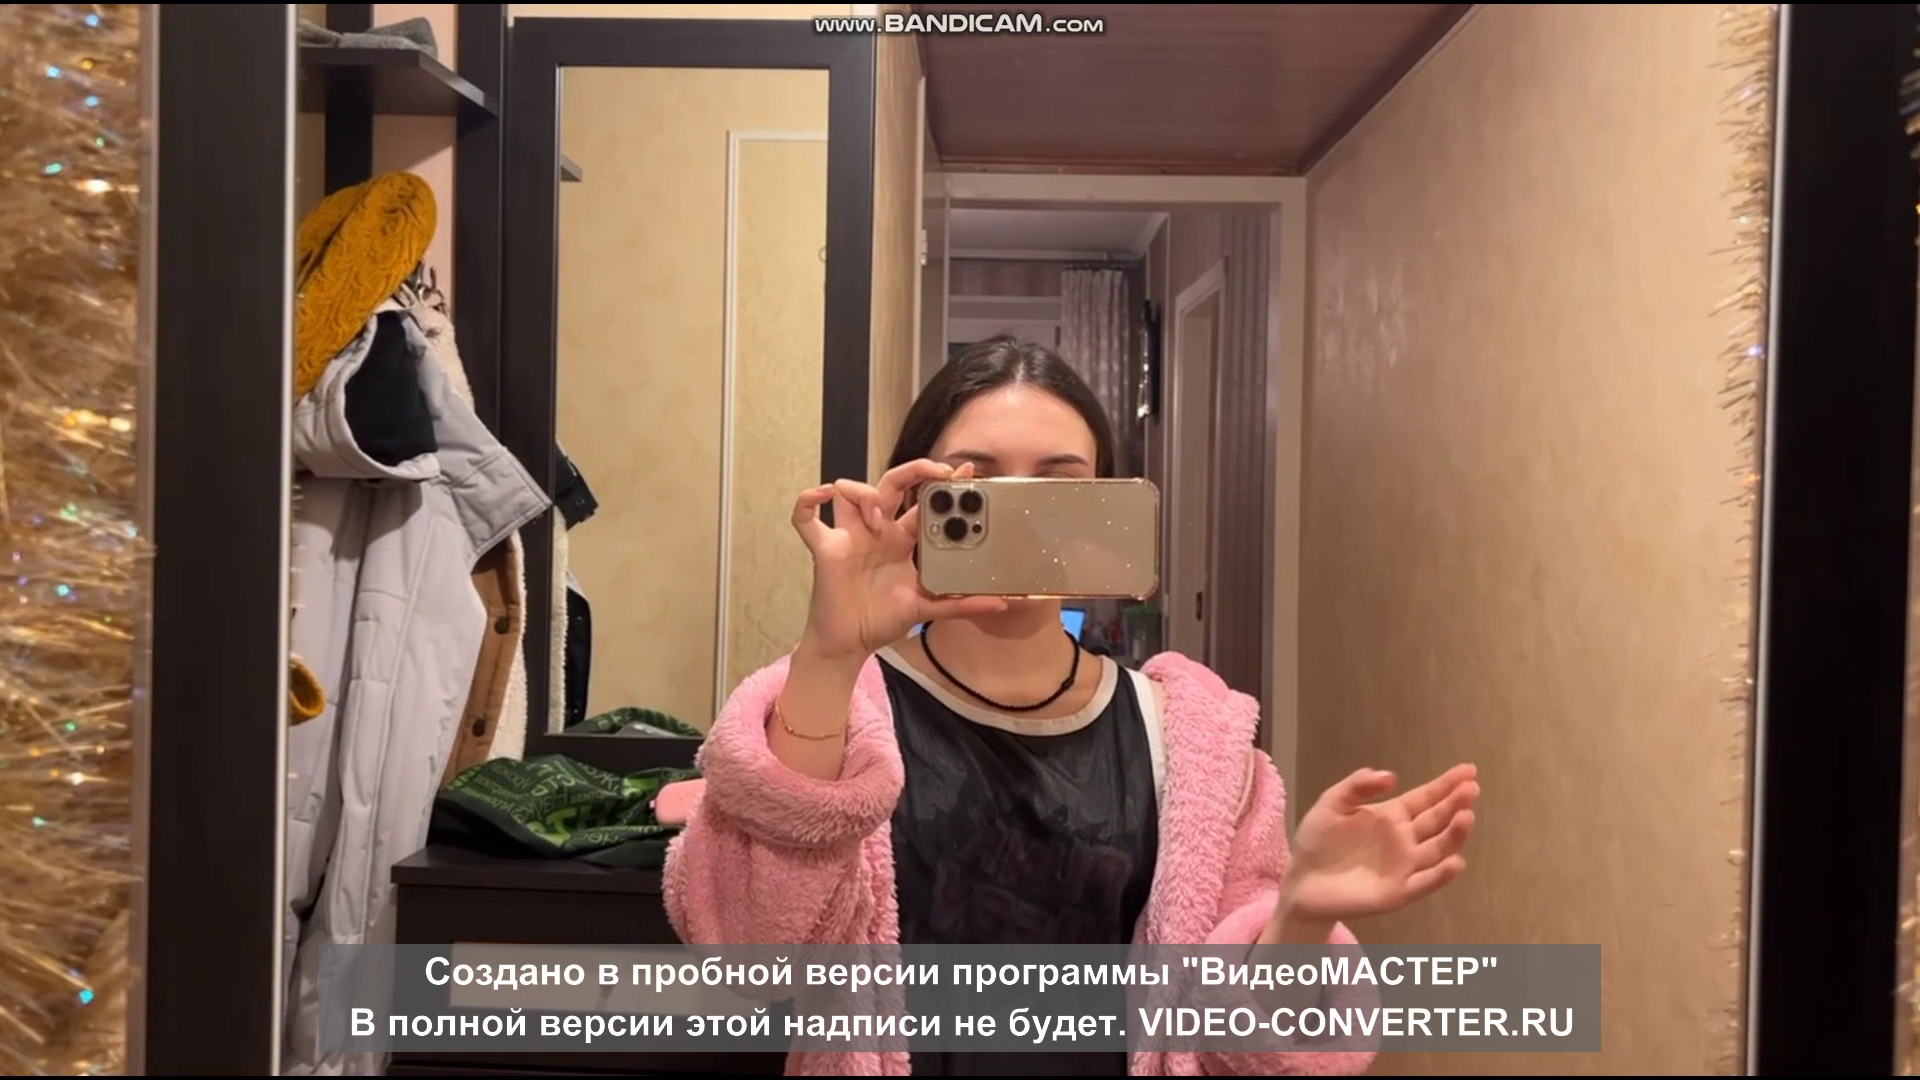Ладонь: (1282, 760, 1477, 916)
